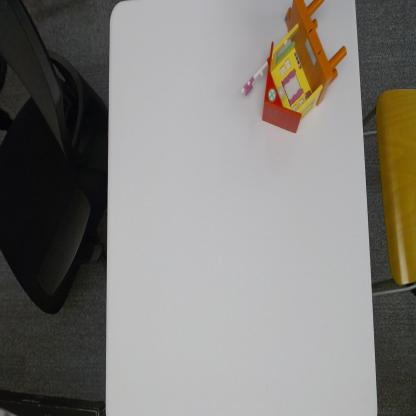House: (243, 0, 348, 139)
